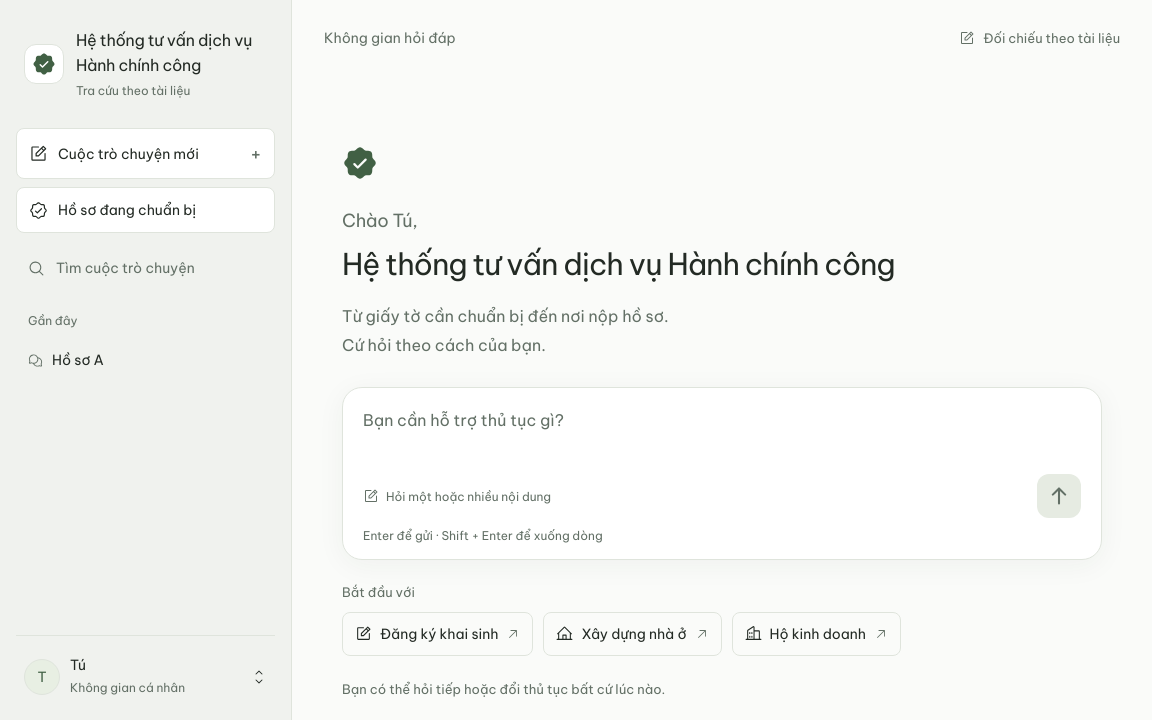
it: G6 account workspace › reconnects to a persisted active job after reopening the thread
Click the button "Hồ sơ A".
click(124, 360)  # box [16,338,231,382]
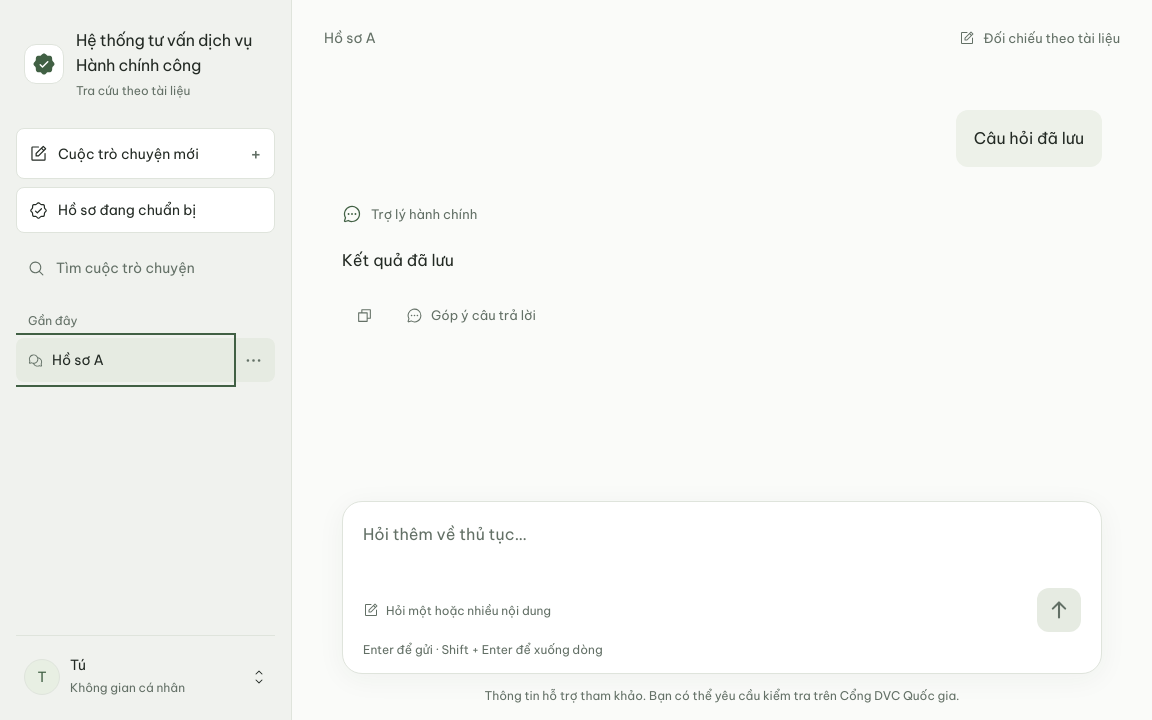
Result: the text "Kết quả đã lưu" is shown at [342,250,454,270]
